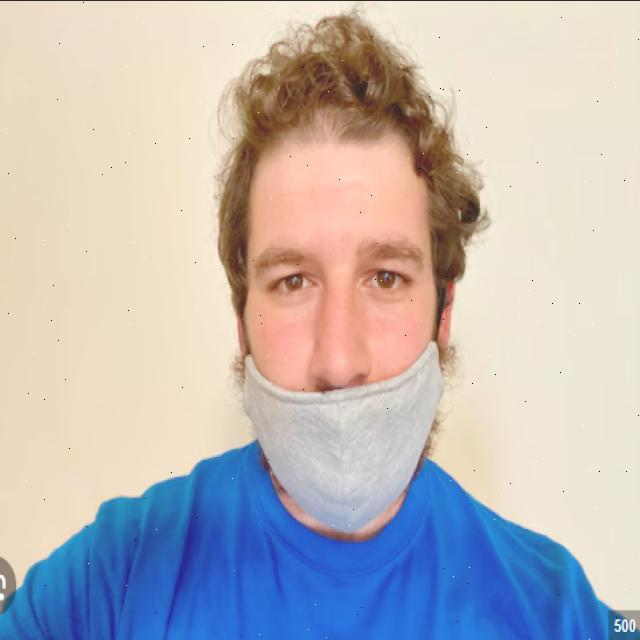face_half_mask: (239, 87, 452, 512)
